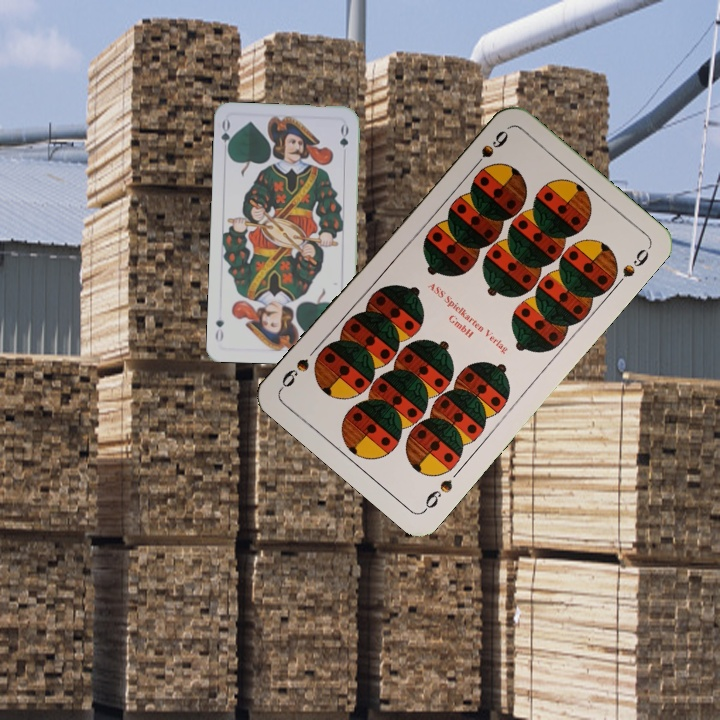GO: (217, 116, 236, 157)
S9: (467, 126, 511, 174), (419, 475, 455, 514)
